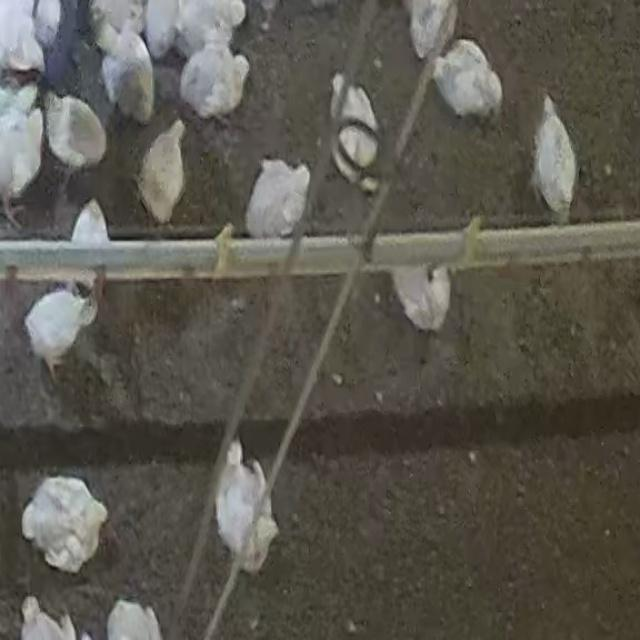chicken: (21, 474, 109, 574), (214, 441, 278, 572), (23, 284, 98, 382), (325, 72, 381, 196), (178, 38, 250, 125), (533, 91, 580, 223), (98, 27, 156, 126), (432, 44, 505, 120), (245, 160, 311, 240), (0, 108, 47, 217), (138, 118, 187, 222), (382, 266, 454, 336), (46, 94, 108, 174), (172, 1, 248, 62), (404, 0, 465, 59), (1, 1, 45, 75), (19, 595, 78, 640), (88, 1, 144, 46), (107, 598, 165, 640), (143, 1, 181, 56), (71, 198, 111, 246)
